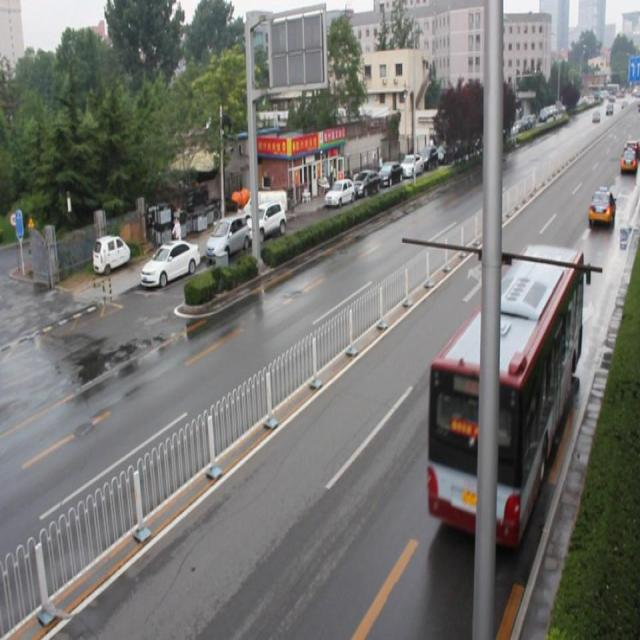car: (586, 187, 614, 228)
van: (428, 243, 582, 544)
